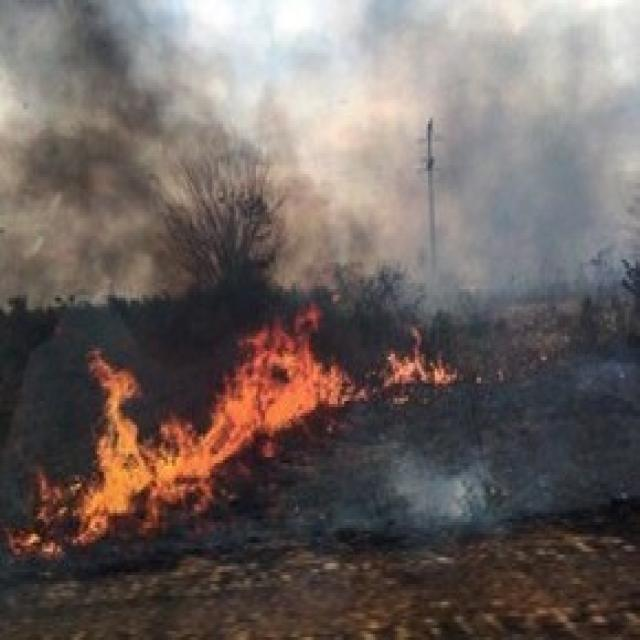Fire: (12, 348, 208, 560), (220, 317, 358, 447), (386, 328, 458, 398)
Smoke: (17, 17, 334, 293), (386, 19, 611, 285), (399, 446, 488, 538)
